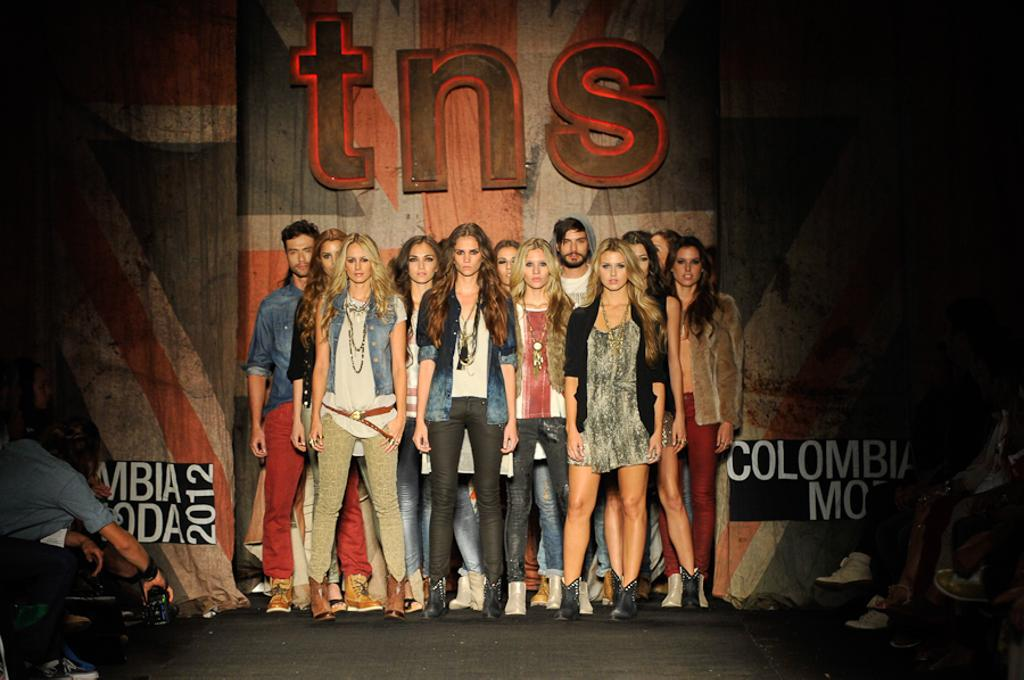face: (408, 244, 436, 284), (561, 228, 589, 268), (601, 250, 628, 290), (288, 235, 313, 276), (454, 237, 480, 276), (675, 247, 701, 286), (525, 249, 549, 290), (626, 243, 650, 283), (348, 242, 371, 283), (498, 245, 521, 285), (322, 239, 344, 276), (33, 370, 51, 408), (652, 236, 670, 269)
